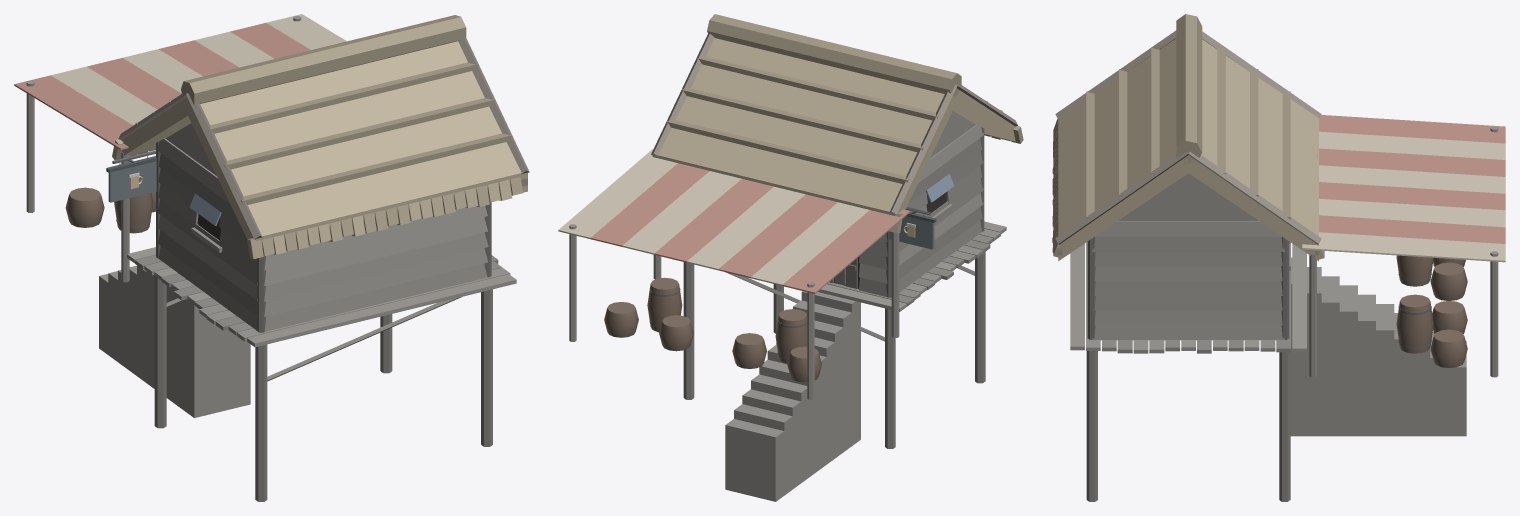
Rendered from tavern_1.gltf.
3 renders of one model, left to right at view 1: azimuth 30°, elevation 25°; view 2: azimuth 150°, elevation 25°; view 3: azimuth 270°, elevation 25°, orthographic. The views are drawn at different scales.
Visible parts, largest first — view 1: Body; view 2: Body; view 3: Body.
Boxes of the visible parts, left/top/right/bottom form: Body: left=14, top=14, right=529, bottom=501; Body: left=558, top=14, right=1023, bottom=501; Body: left=1052, top=14, right=1505, bottom=501.
Bounding box in the file's own units: 6.02 × 7.2 × 8.
